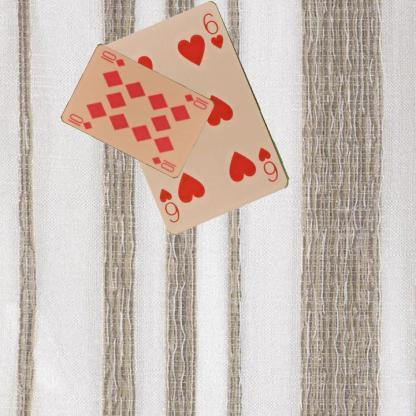10d: (182, 91, 210, 111), (67, 112, 94, 130)
6h: (255, 144, 280, 184)
